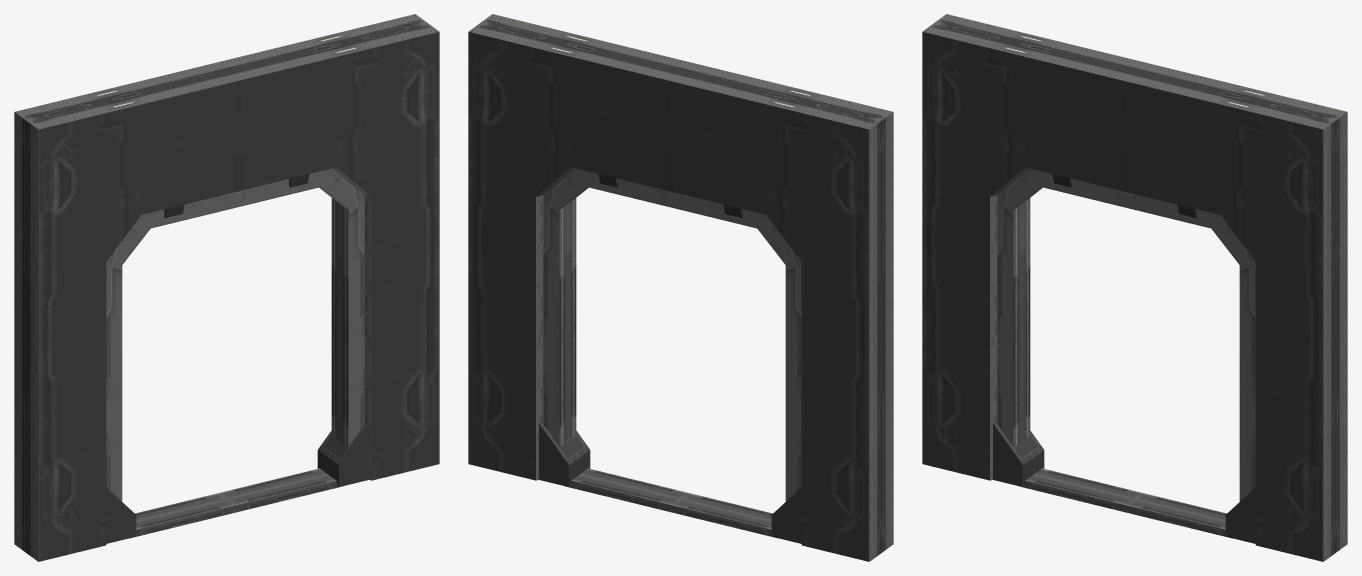
Rendered from door-BYvUmVi_.glb.
3 views of the same model, side by side, from view 1: azimuth 30°, elevation 25°; view 2: azimuth 150°, elevation 25°; view 3: azimuth 330°, elevation 25° (orthographic).
Visible parts, largest first — view 1: Door_Frame_Square; view 2: Door_Frame_Square; view 3: Door_Frame_Square.
Part boxes in pixels (left/top/right/bottom): Door_Frame_Square: left=14, top=14, right=439, bottom=561; Door_Frame_Square: left=468, top=14, right=893, bottom=561; Door_Frame_Square: left=922, top=14, right=1347, bottom=561.
Size of the model in its own units: 4.85 by 5.01 by 0.5067.
Materials: 1 (1 with a texture image).
